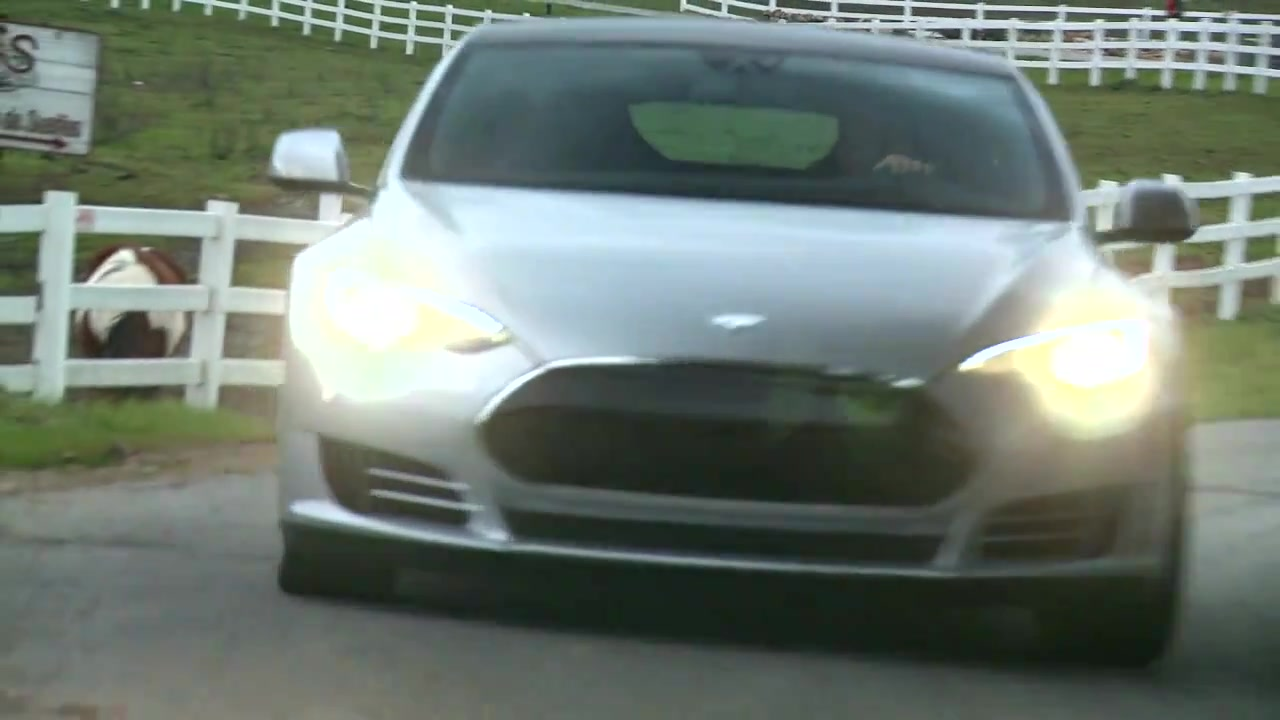car: (270, 6, 1204, 672)
